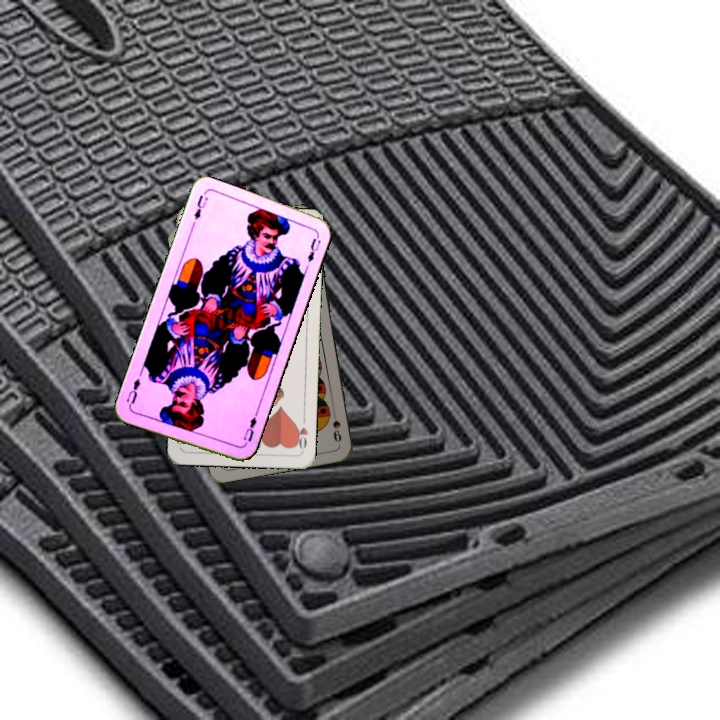EU: (239, 409, 260, 448), (190, 191, 211, 222)
HO: (291, 412, 310, 453)
S9: (328, 405, 344, 445)
